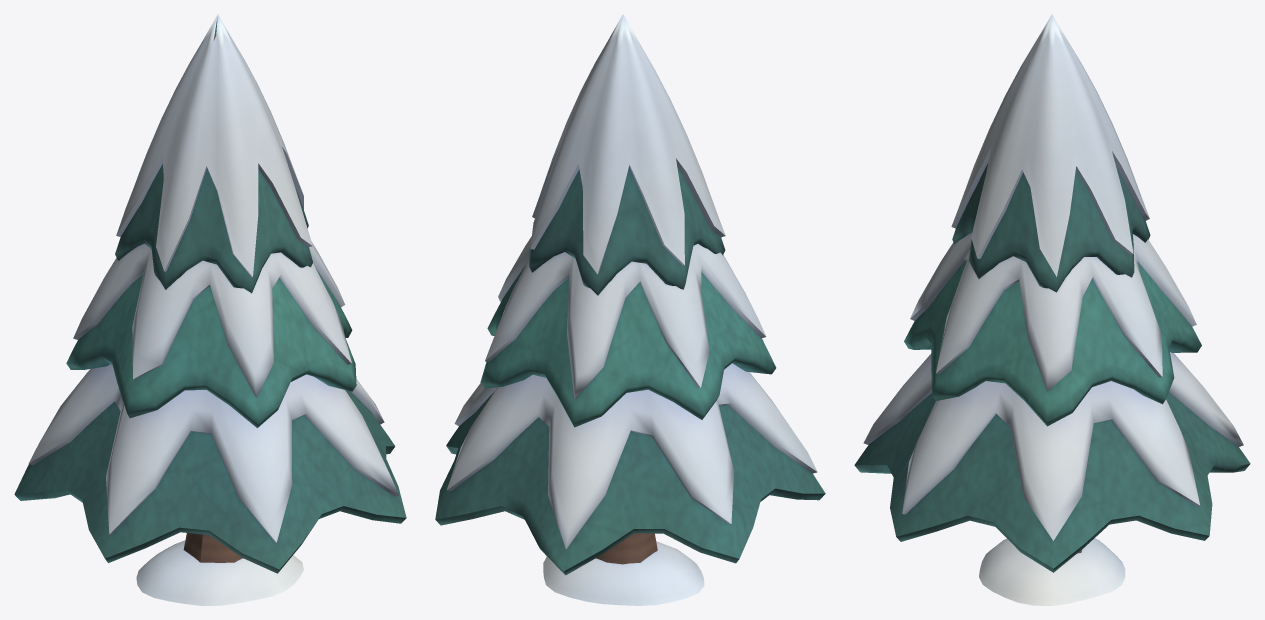
File: FP_P02_YoungFir.fbx
3 views of the same model, side by side, from view 1: azimuth 30°, elevation 25°; view 2: azimuth 150°, elevation 25°; view 3: azimuth 270°, elevation 25° (orthographic).
Parts seen in each view (by area): view 1: Snow_LOD0, Foliage_LOD0, Trunk_LOD0; view 2: Snow_LOD0, Foliage_LOD0, Trunk_LOD0; view 3: Snow_LOD0, Foliage_LOD0, Trunk_LOD0.
Boxes of the visible parts, <box> form: Snow_LOD0: <box>28,14,399,542</box>; Foliage_LOD0: <box>14,164,406,573</box>; Trunk_LOD0: <box>136,533,303,605</box>; Snow_LOD0: <box>446,14,817,548</box>; Foliage_LOD0: <box>435,166,825,575</box>; Trunk_LOD0: <box>543,533,704,605</box>; Snow_LOD0: <box>863,14,1243,540</box>; Foliage_LOD0: <box>854,163,1250,572</box>; Trunk_LOD0: <box>979,538,1125,605</box>.
Size of what is drawn, in the model's own units: 1.39 by 2.22 by 1.43.
